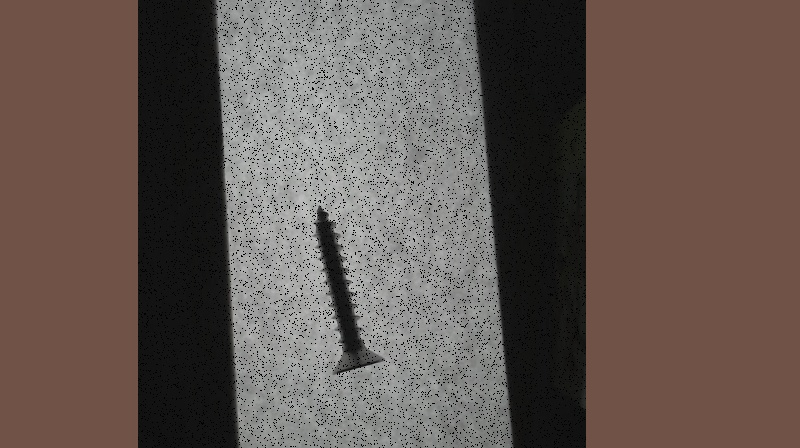S001: (308, 202, 383, 378)
